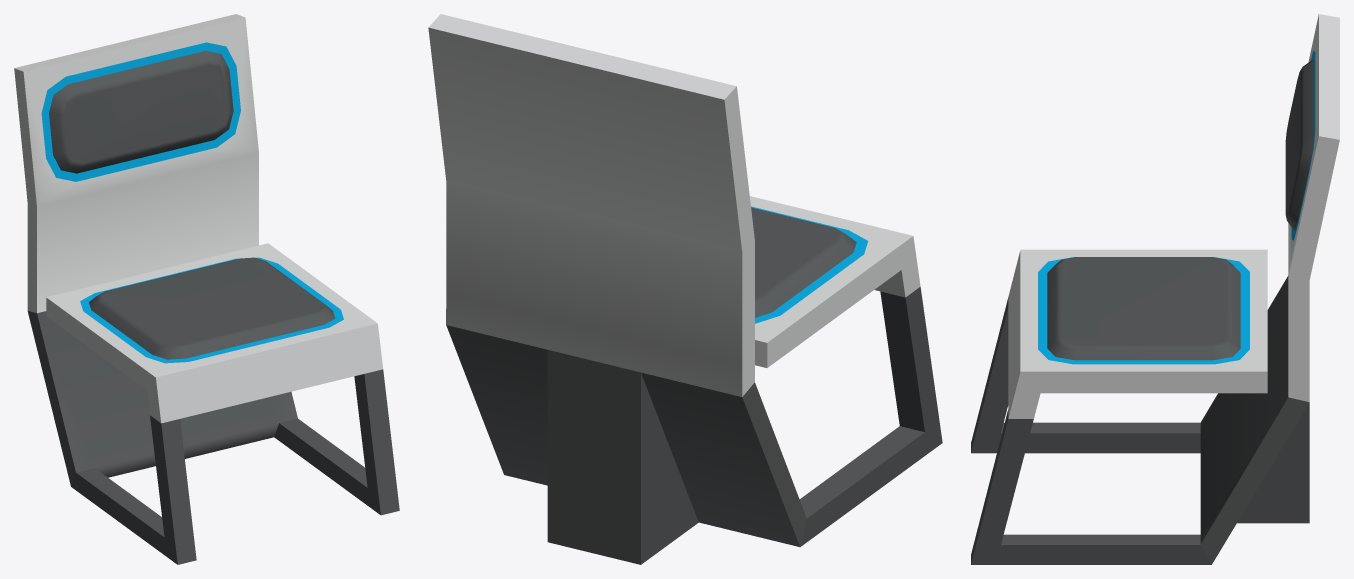
Rendered from Chair_006.fbx.
3 views of the same model, side by side, from view 1: azimuth 30°, elevation 25°; view 2: azimuth 150°, elevation 25°; view 3: azimuth 270°, elevation 25° (orthographic). The views are drawn at different scales.
Parts seen in each view (by area): view 1: Chair_006; view 2: Chair_006; view 3: Chair_006.
Part boxes in pixels (x1,y1,x2,y2): Chair_006: (14, 14, 399, 564); Chair_006: (428, 14, 942, 564); Chair_006: (971, 14, 1339, 564).
Bounding box in the file's own units: 65.19 × 83.2 × 107.
